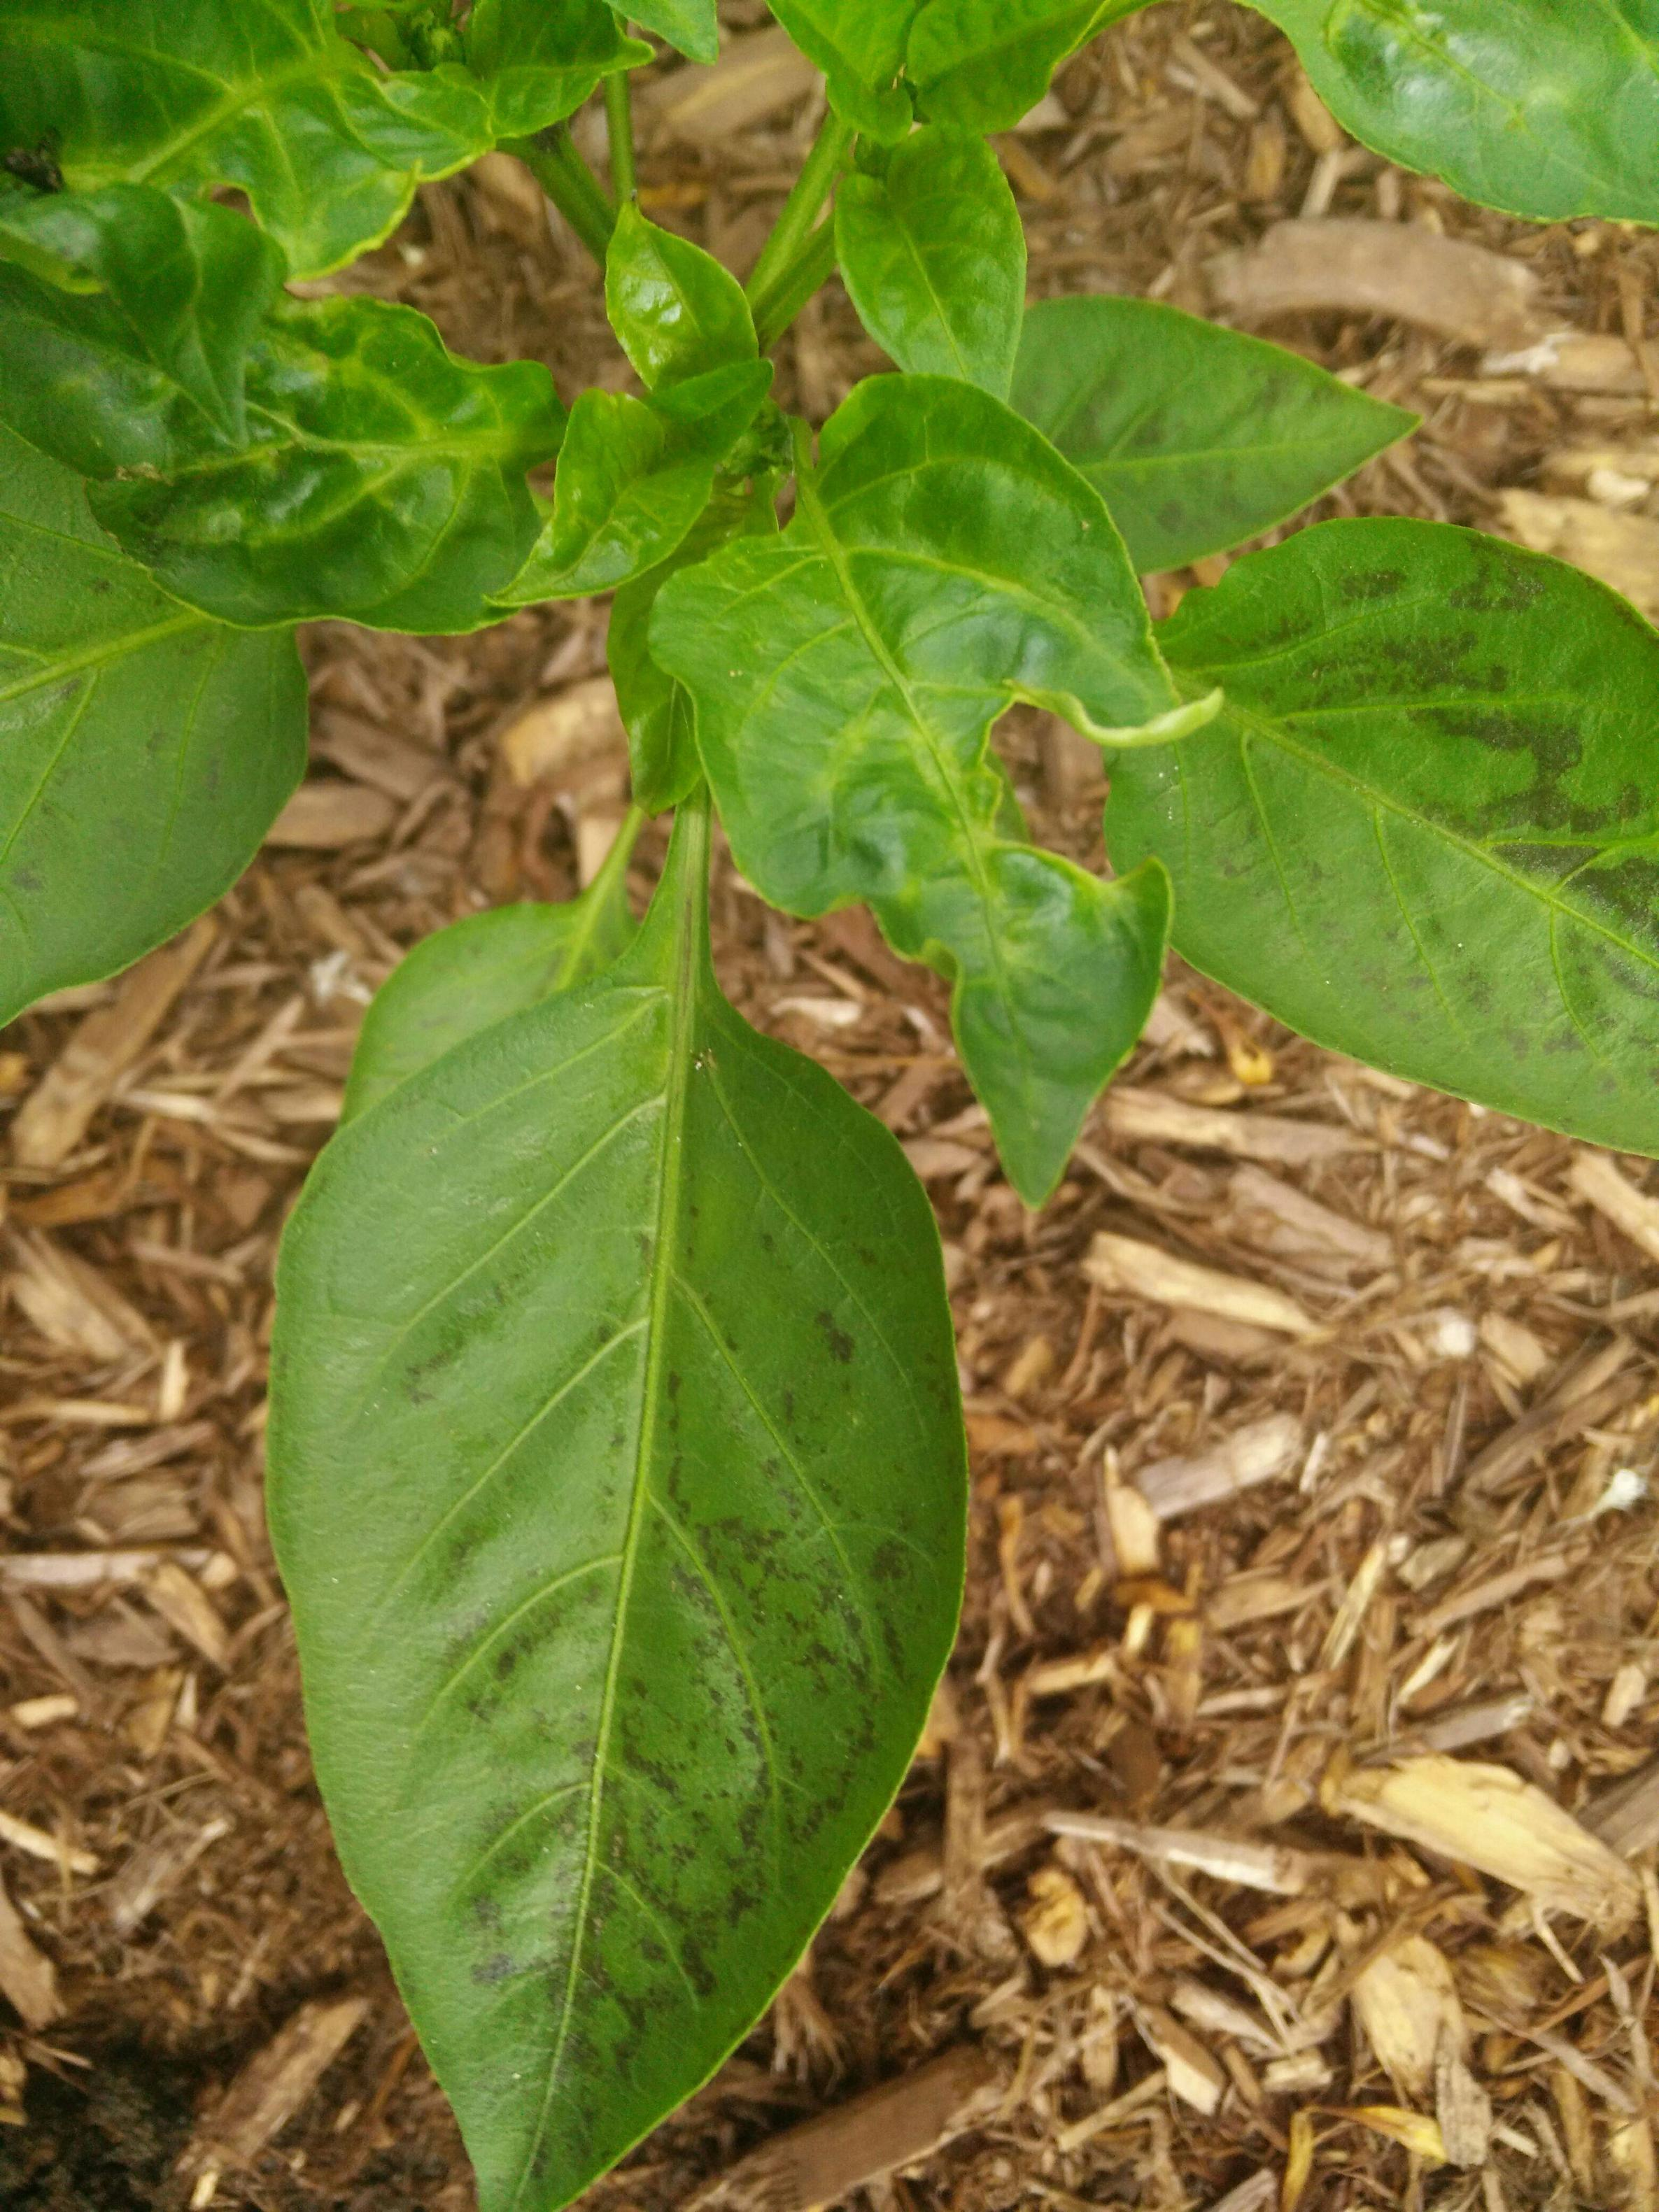Bell_pepper leaf spot: (267, 970, 978, 2212), (619, 387, 1220, 1211), (1119, 498, 1659, 1169), (3, 437, 319, 1028), (976, 280, 1425, 571)
